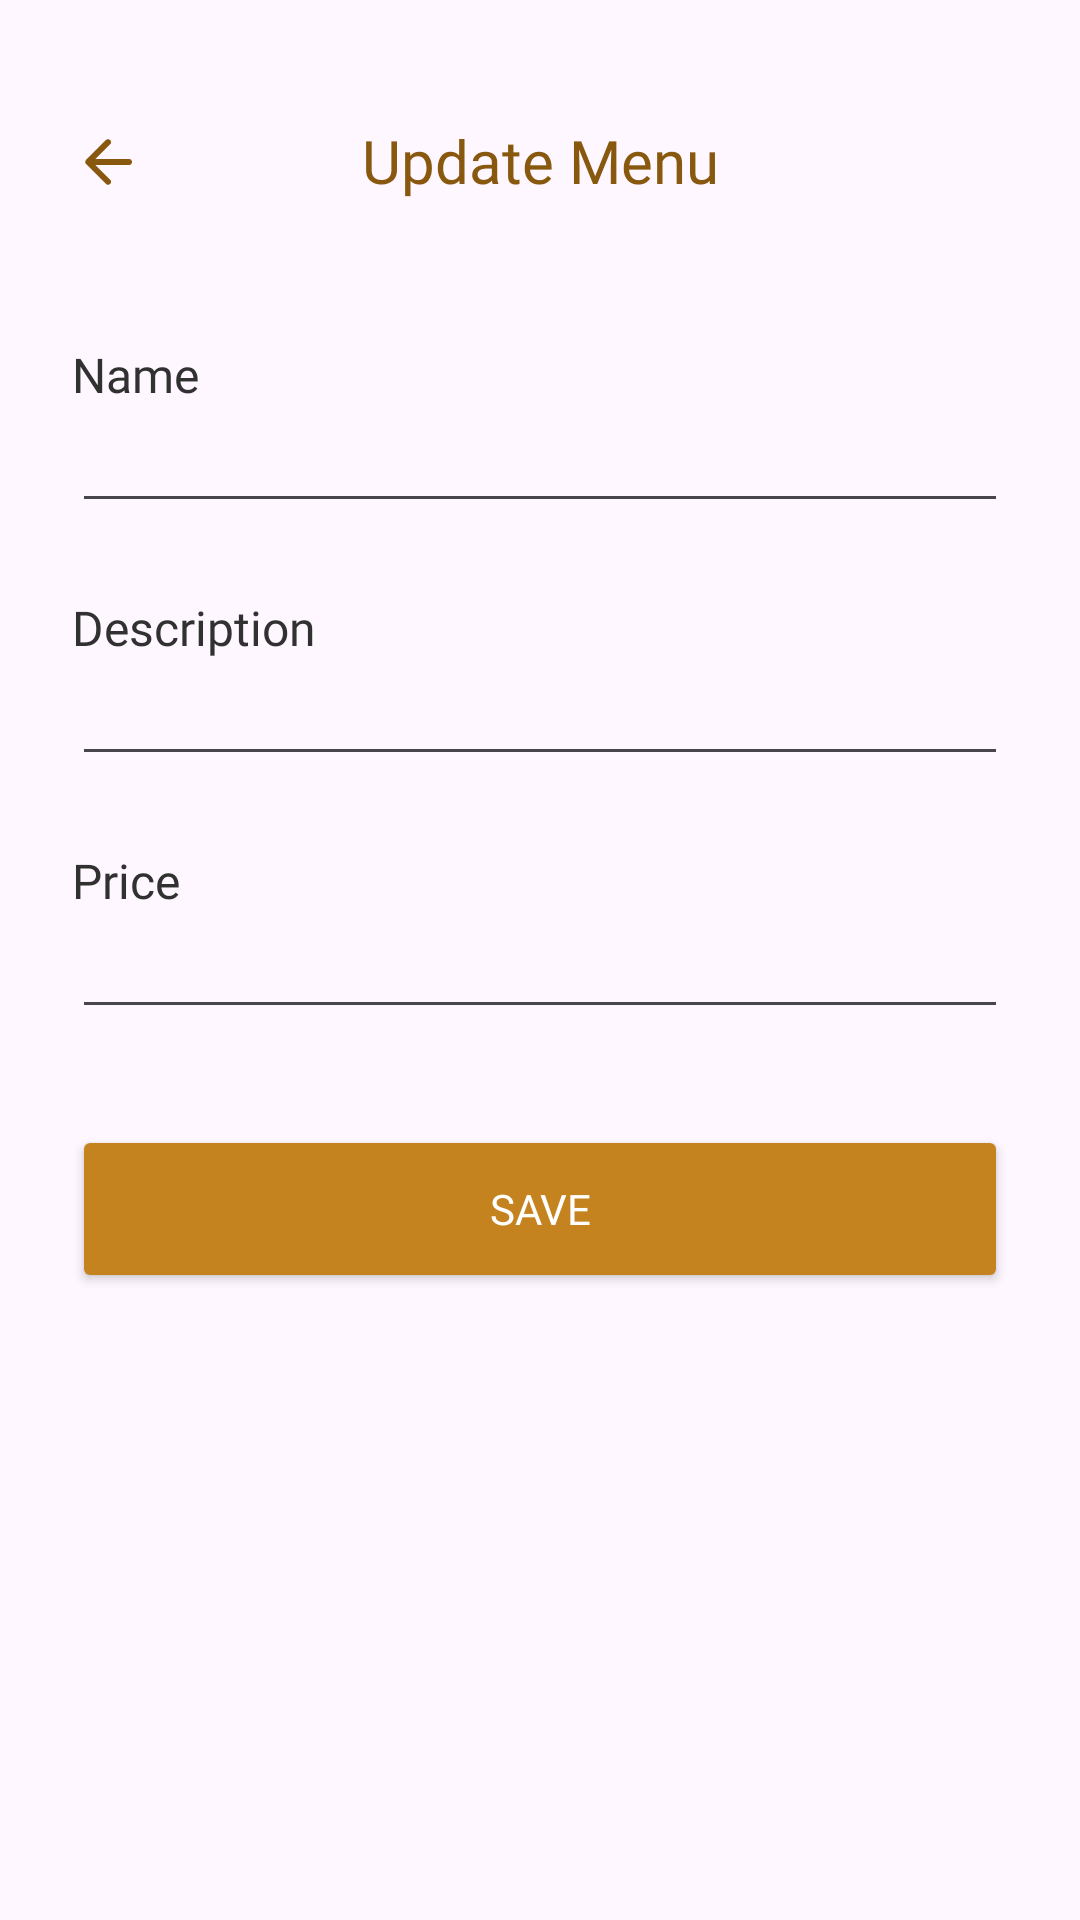

Named icons in this screenshot (1080px×1920px) and their centers, point (x, y):
back: point (108, 162)
